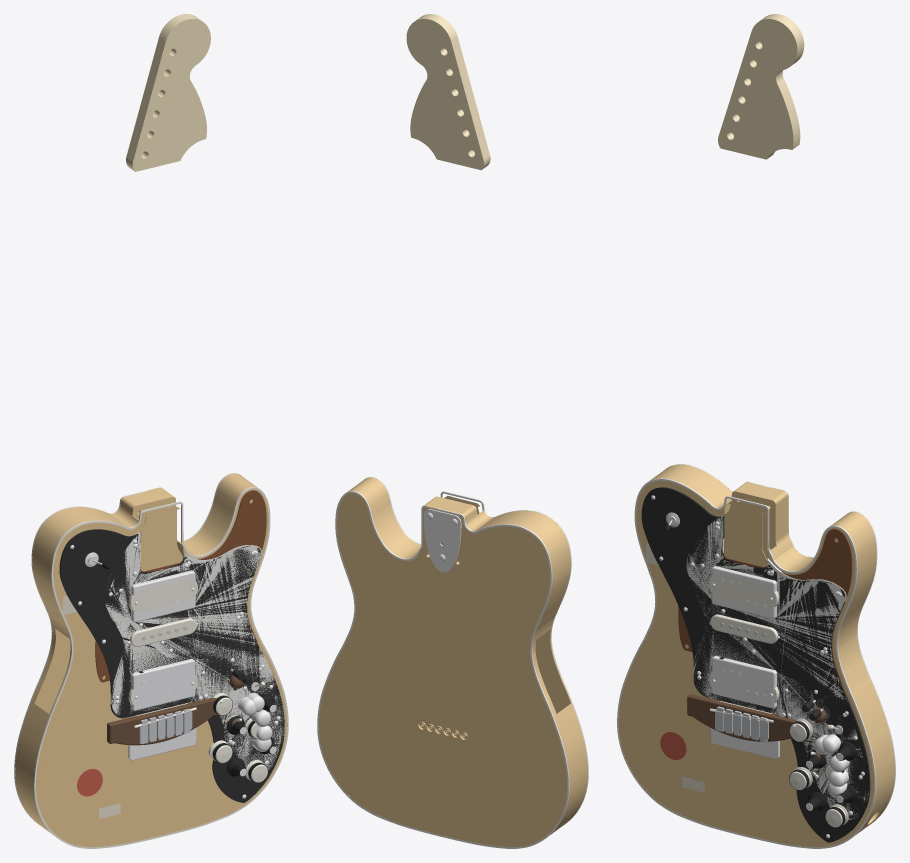
Rendered from variants.glb.
The picture shows the model from 3 angles, left to right: view 1: azimuth 30°, elevation 25°; view 2: azimuth 150°, elevation 25°; view 3: azimuth 330°, elevation 25°; orthographic projection. The views are drawn at different scales.
Parts seen in each view (by area): view 1: v_topcap__cap, v_guard_deluxe__guard, v_thinline_body, v_strat_headstock__plate, v_guard_thinline72__guard, v_guard_thinline68__guard, v_binding__top, v_guard_nashville__guard, v_humbucker_bridge__cover, v_ac_bridge__wood, v_elite_pu__cover_neck, v_humbucker_neck__cover (+4 smaller); view 2: v_thinline_body, v_strat_headstock__plate, v_binding__back, v_plate3__plate, v_binding__top; view 3: v_guard_deluxe__guard, v_topcap__cap, v_thinline_body, v_strat_headstock__plate, v_guard_thinline72__guard, v_guard_thinline68__guard, v_binding__top, v_guard_nashville__guard, v_humbucker_bridge__cover, v_ac_bridge__wood, v_elite_pu__cover_neck, v_humbucker_neck__cover (+4 smaller).
Boxes of the visible parts, x1,y1,x2,y2 form: v_topcap__cap: (41, 499, 252, 841); v_guard_deluxe__guard: (59, 529, 284, 802); v_thinline_body: (15, 473, 286, 847); v_strat_headstock__plate: (126, 14, 210, 171); v_guard_thinline72__guard: (105, 533, 284, 767); v_guard_thinline68__guard: (113, 532, 281, 769); v_binding__top: (33, 487, 288, 848); v_guard_nashville__guard: (95, 490, 266, 682); v_humbucker_bridge__cover: (131, 658, 195, 710); v_ac_bridge__wood: (107, 698, 217, 745); v_elite_pu__cover_neck: (128, 579, 197, 613); v_humbucker_neck__cover: (131, 570, 195, 622); v_thinline_body: (318, 477, 587, 847); v_strat_headstock__plate: (406, 14, 490, 170); v_binding__back: (317, 491, 569, 848); v_plate3__plate: (424, 509, 461, 572); v_binding__top: (365, 477, 588, 822); v_guard_deluxe__guard: (641, 487, 870, 842); v_topcap__cap: (623, 486, 838, 841); v_thinline_body: (618, 464, 894, 847); v_strat_headstock__plate: (718, 14, 804, 159); v_guard_thinline72__guard: (686, 517, 868, 819); v_guard_thinline68__guard: (696, 516, 865, 815); v_binding__top: (617, 478, 876, 848); v_guard_nashville__guard: (678, 529, 852, 686); v_humbucker_bridge__cover: (712, 655, 777, 708); v_ac_bridge__wood: (687, 694, 796, 741); v_elite_pu__cover_neck: (708, 574, 779, 609); v_humbucker_neck__cover: (711, 566, 776, 618).
Size of the model in its own units: 0.3243 by 0.9877 by 0.0777.
